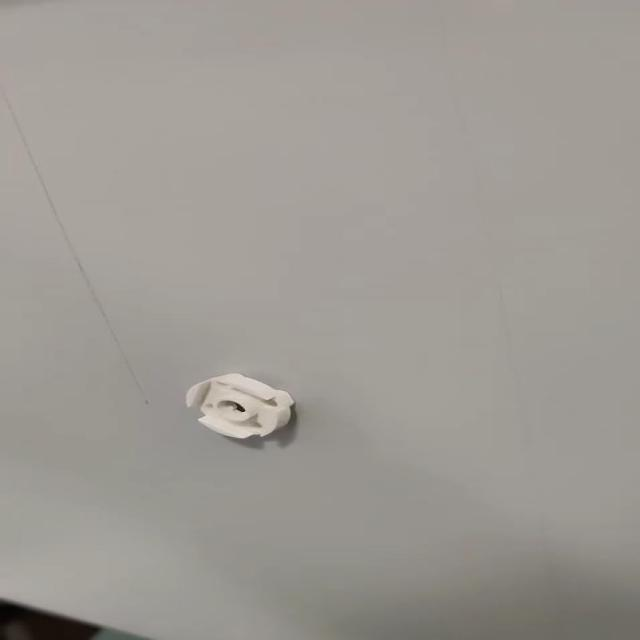S2x2x0: (182, 372, 296, 440)
